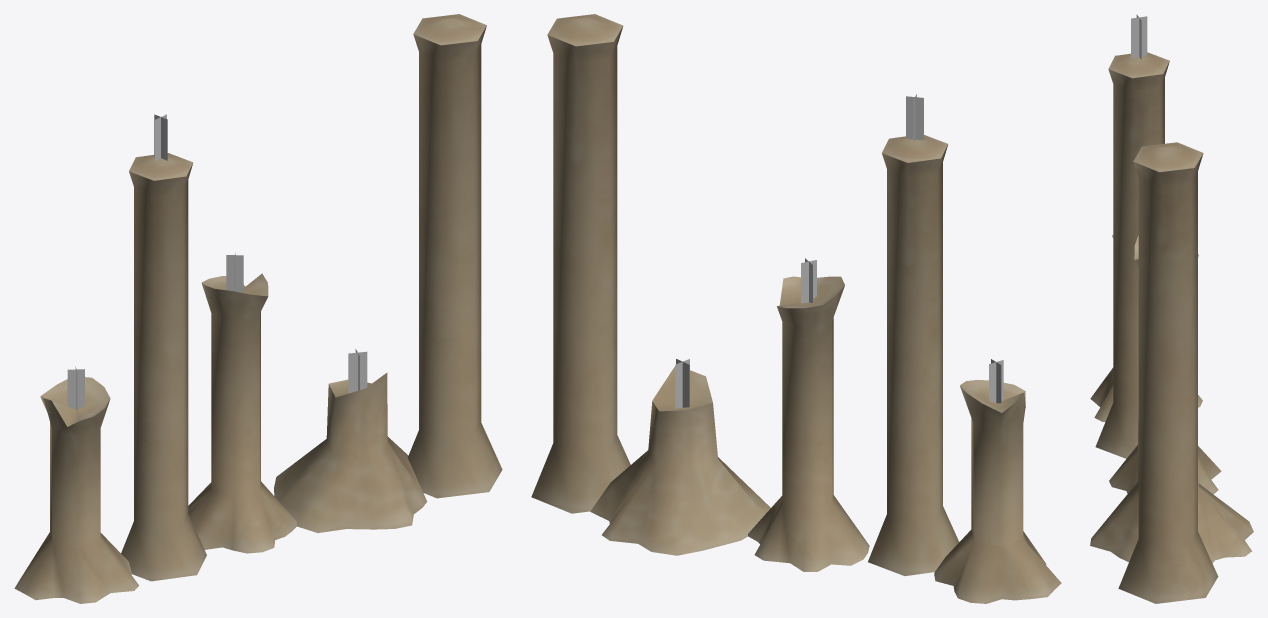
Rendered from SM_Candles_G.fbx.
The picture shows the model from 3 angles, left to right: view 1: azimuth 30°, elevation 25°; view 2: azimuth 150°, elevation 25°; view 3: azimuth 270°, elevation 25°; orthographic projection. The views are drawn at different scales.
Parts seen in each view (by area): view 1: SM_Candles_G_LOD0; view 2: SM_Candles_G_LOD0; view 3: SM_Candles_G_LOD0.
Part boxes in pixels (bbox=[...]): SM_Candles_G_LOD0: bbox=[14, 14, 502, 603]; SM_Candles_G_LOD0: bbox=[531, 14, 1061, 603]; SM_Candles_G_LOD0: bbox=[1090, 14, 1253, 603].
Bounding box in the file's own units: 31.64 × 9.66 × 28.27.
Materials: 2 (1 with a texture image).
